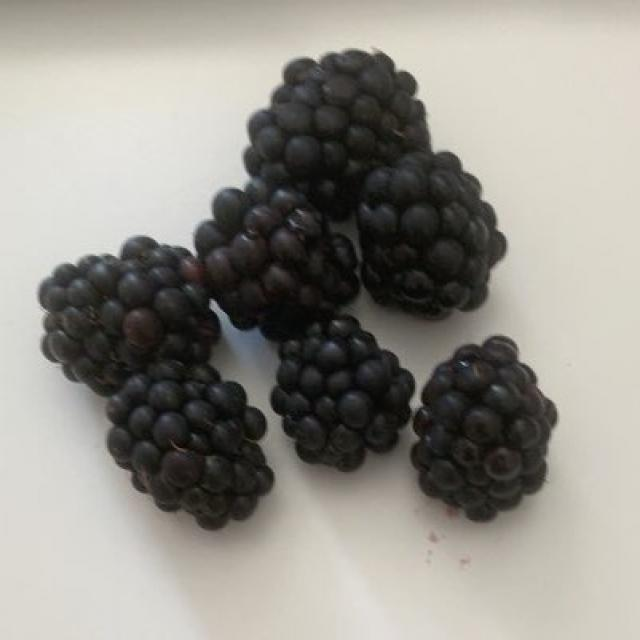blackberry: (45, 55, 537, 514)
